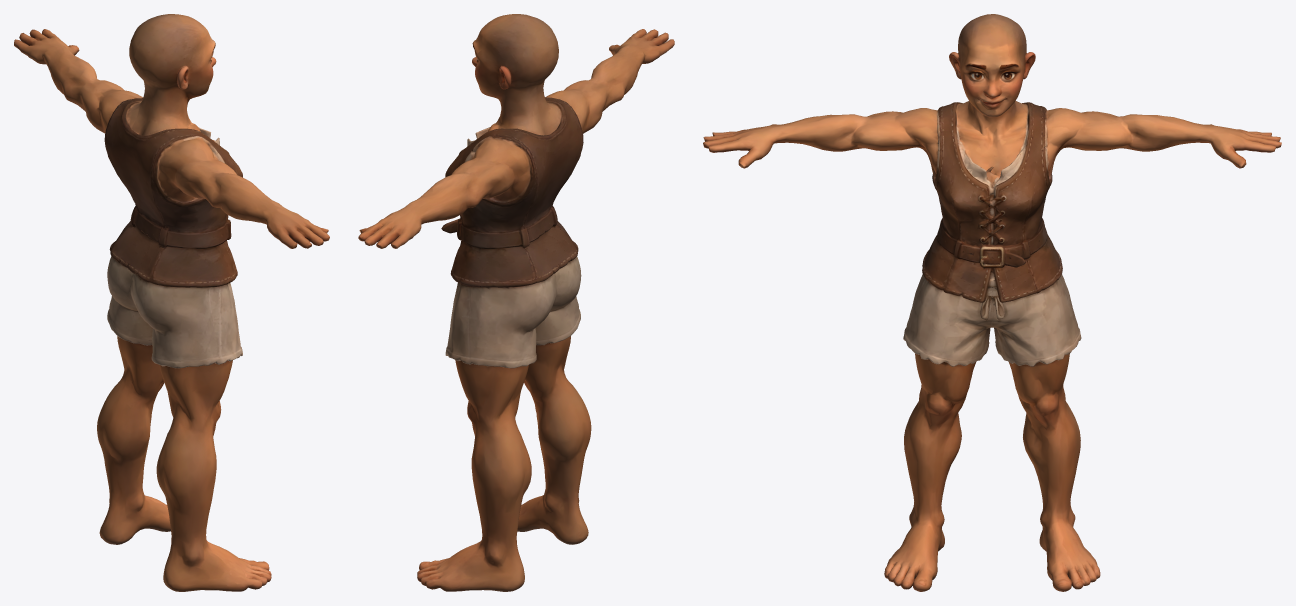
3 renders of one model, left to right at view 1: azimuth 30°, elevation 25°; view 2: azimuth 150°, elevation 25°; view 3: azimuth 270°, elevation 25°, orthographic.
Visible parts, largest first — view 1: tripo_node_f9eaddeb-2ac8-4077-8f46-8a4008001165; view 2: tripo_node_f9eaddeb-2ac8-4077-8f46-8a4008001165; view 3: tripo_node_f9eaddeb-2ac8-4077-8f46-8a4008001165.
Boxes of the visible parts, x1,y1,x2,y2 form: tripo_node_f9eaddeb-2ac8-4077-8f46-8a4008001165: (14, 14, 329, 591); tripo_node_f9eaddeb-2ac8-4077-8f46-8a4008001165: (358, 14, 674, 591); tripo_node_f9eaddeb-2ac8-4077-8f46-8a4008001165: (703, 14, 1281, 591).
Size of the model in its own units: 0.2058 by 1 by 0.9604.
1 material, 1 textured.
